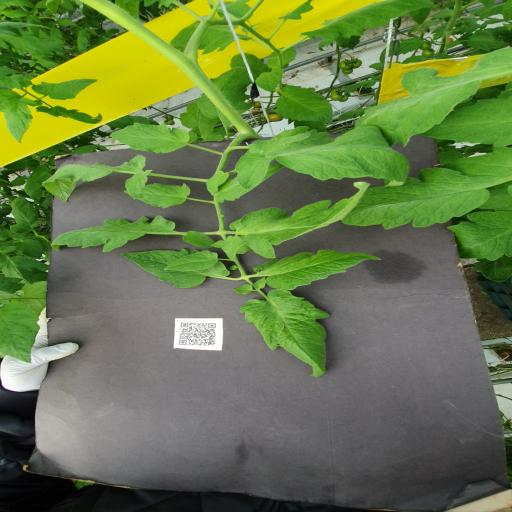Healthy: (343, 146, 512, 230), (221, 181, 371, 259), (235, 126, 412, 189), (236, 289, 334, 377), (252, 248, 384, 290), (40, 154, 157, 201), (299, 0, 438, 39), (46, 214, 176, 253), (419, 98, 512, 148), (446, 210, 512, 261), (108, 122, 190, 154), (0, 301, 40, 366), (274, 85, 335, 124), (0, 89, 36, 145), (124, 182, 192, 208), (32, 78, 98, 101), (162, 250, 219, 274), (8, 195, 41, 234), (254, 66, 286, 93), (182, 230, 216, 249), (17, 239, 44, 259)
